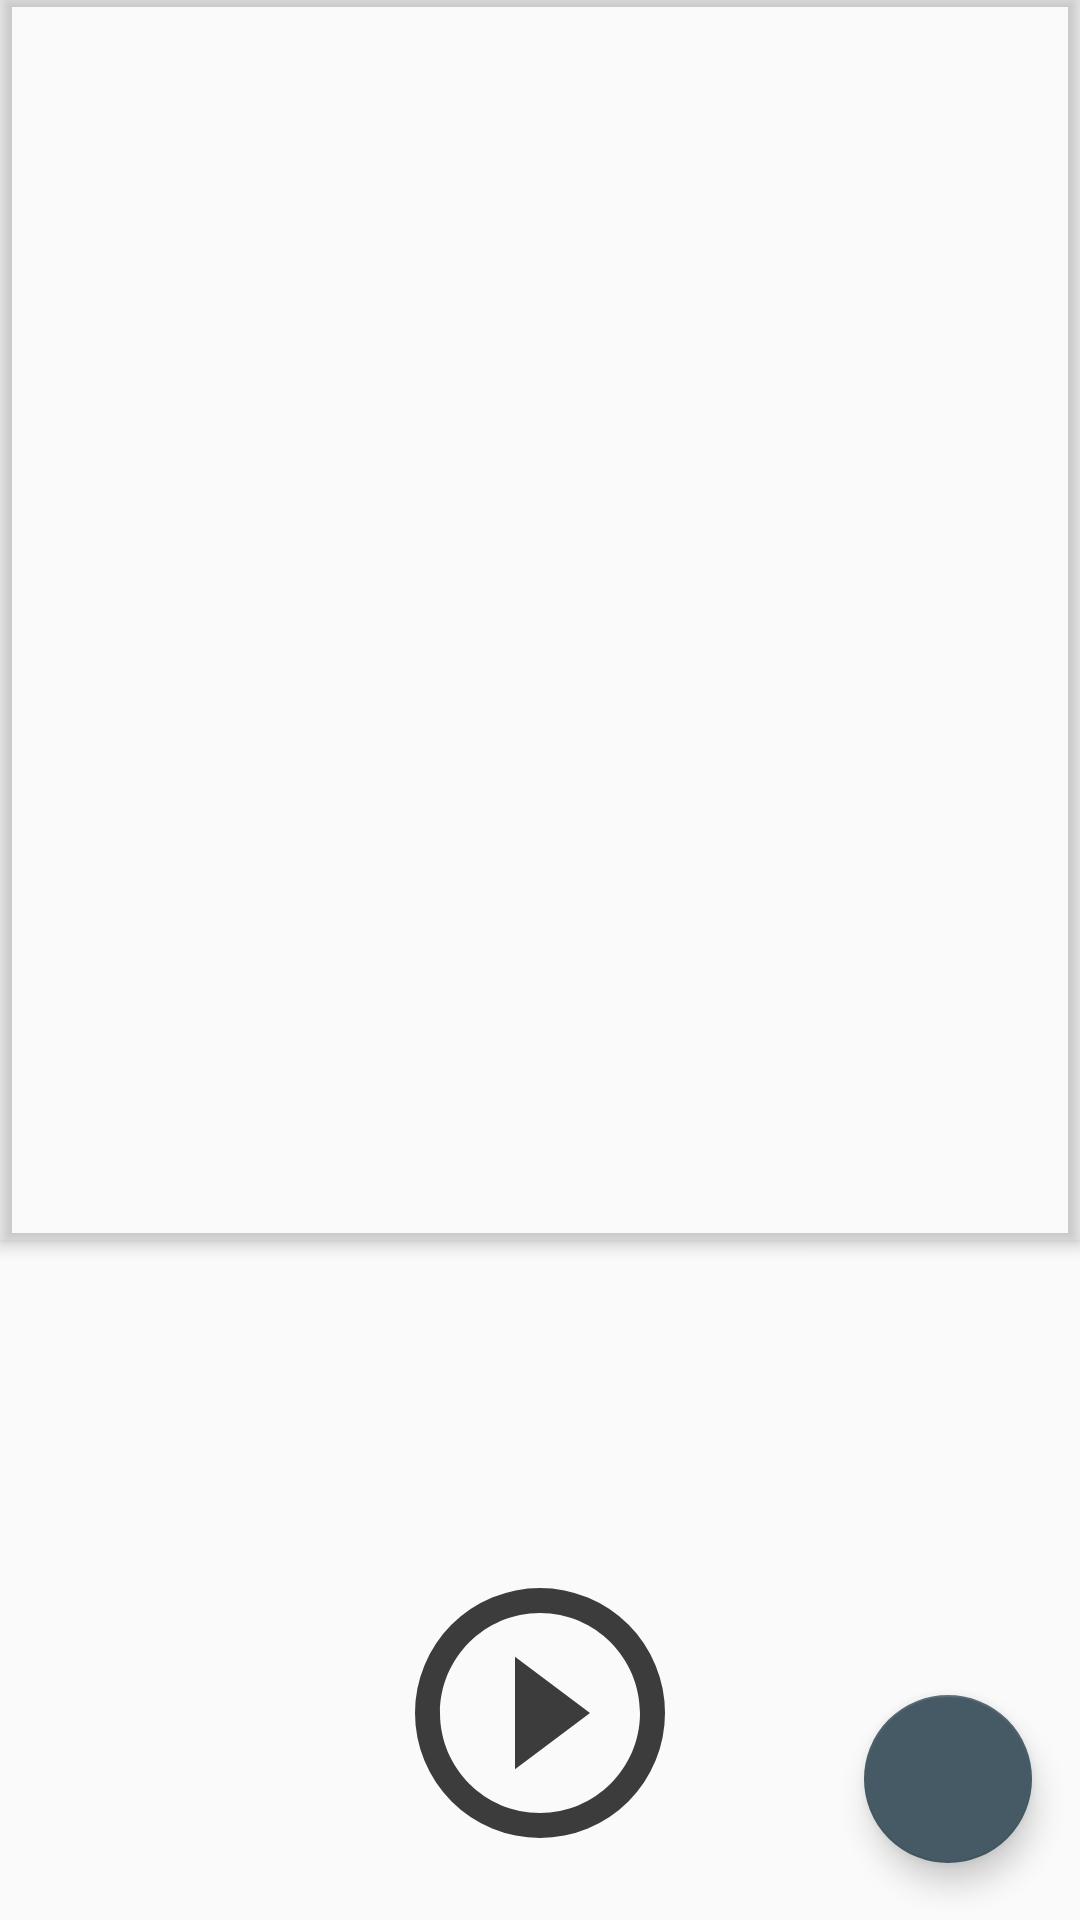

Icon bounding boxes for this 1080 × 1920 phone screenshot, format (x1, y1, x2, y2):
play circle: (415, 1588, 665, 1838)
